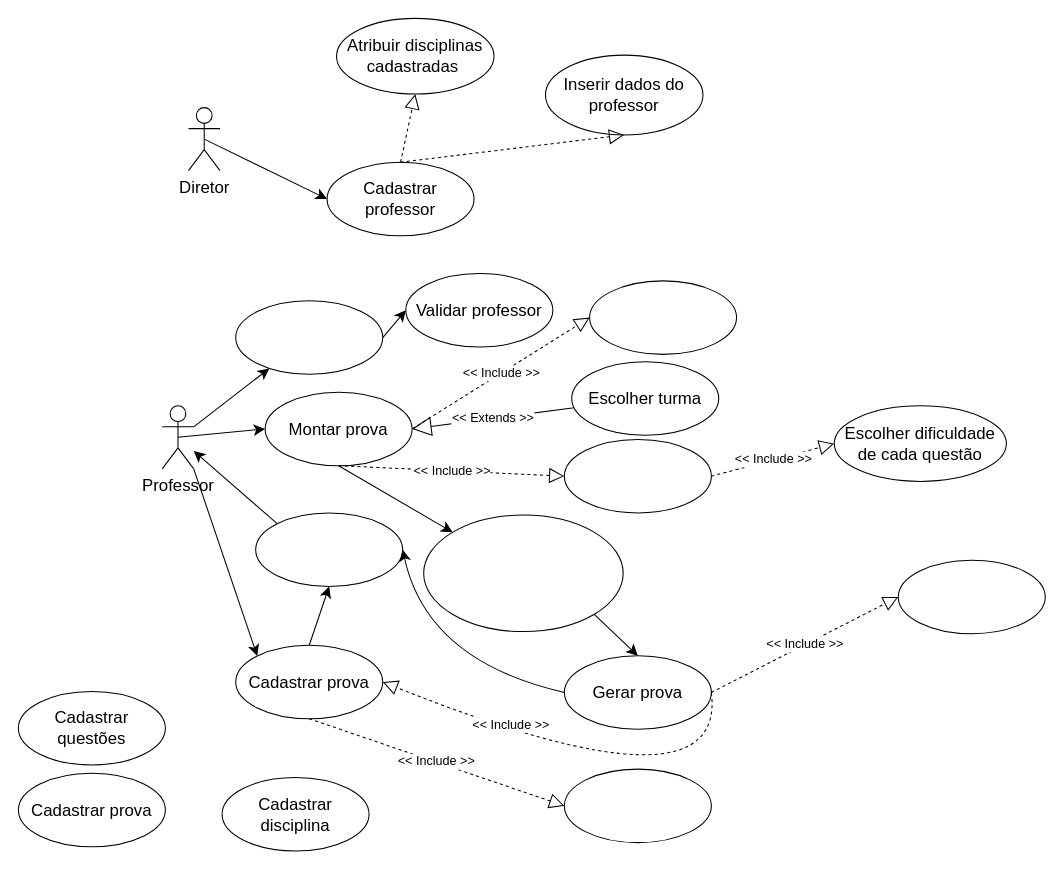
Some shapes in this 1064 by 869 pixel diagram are drawn without their labels. The centre of each missing label's shape, as x and y in pixels:
Entrega prova gerada: (x=329, y=549)
Escolhe aleatoriamente as questões nunca usadas: (x=523, y=573)
Escolher disciplina: (x=663, y=317)
Escolher quantidade de questões: (x=637, y=475)
Escolher questões: (x=637, y=805)
Fazer login: (x=309, y=337)
Marcar questões como usadas: (x=971, y=596)
